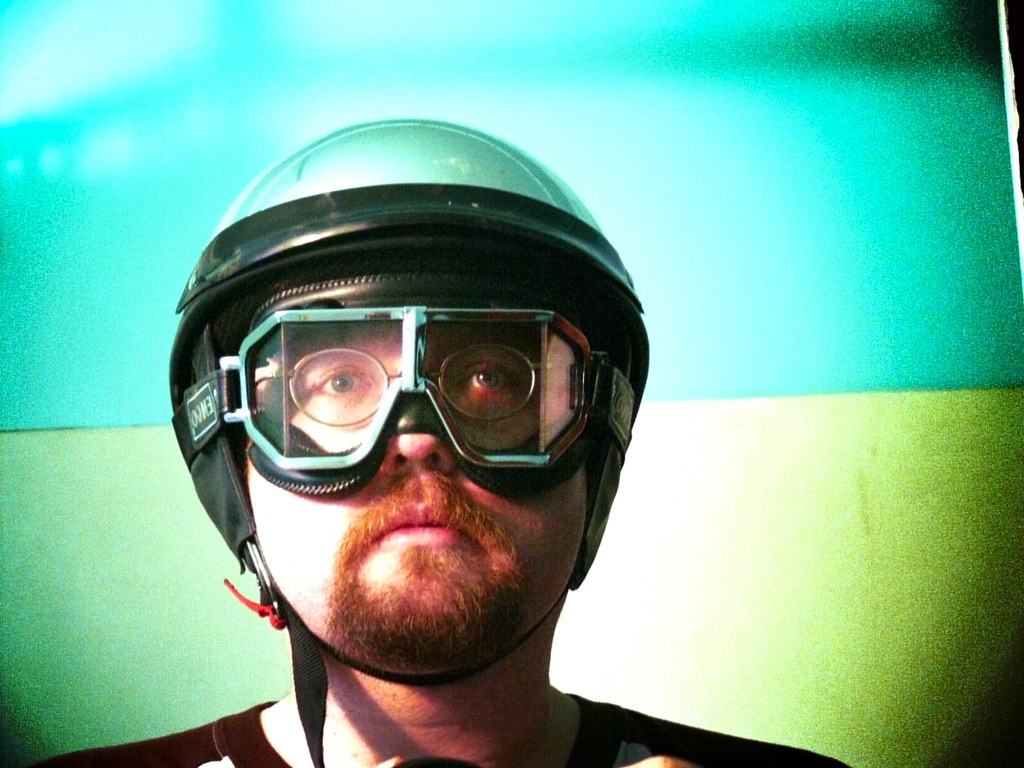helmet: (186, 143, 639, 455)
